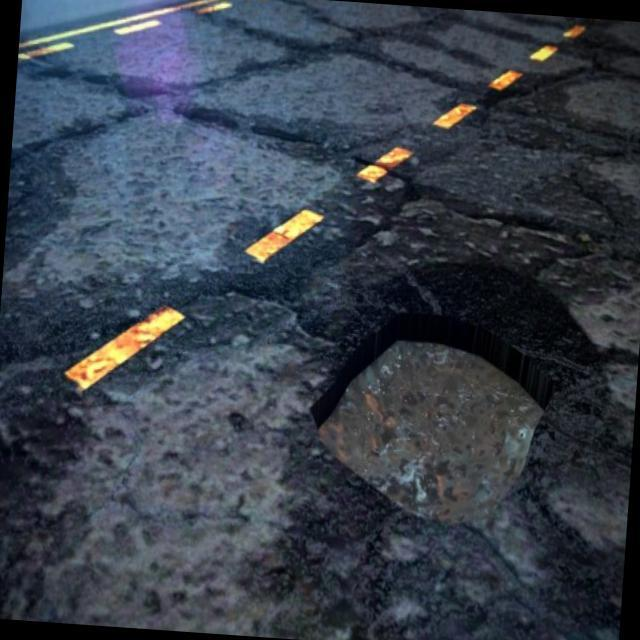Pothole: (272, 253, 596, 610)
